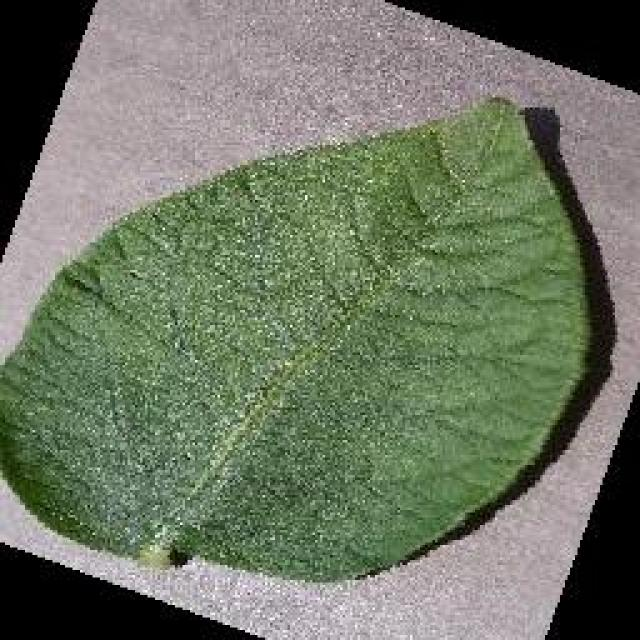Potato___healthy: (0, 94, 592, 588)
